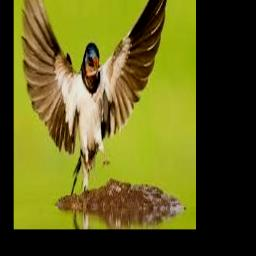Swallow: (22, 0, 170, 194)
